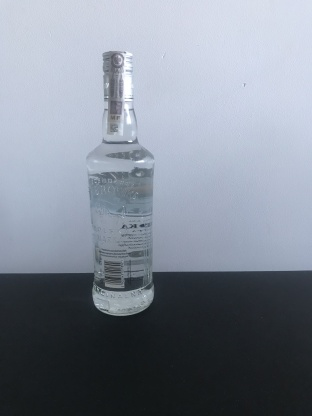nakretka: (99, 46, 136, 104)
